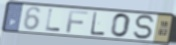0: (109, 13, 134, 39)
6: (21, 6, 43, 32)
F: (65, 9, 90, 34)
L: (44, 8, 62, 33), (89, 11, 106, 37)
S: (132, 14, 157, 41)
